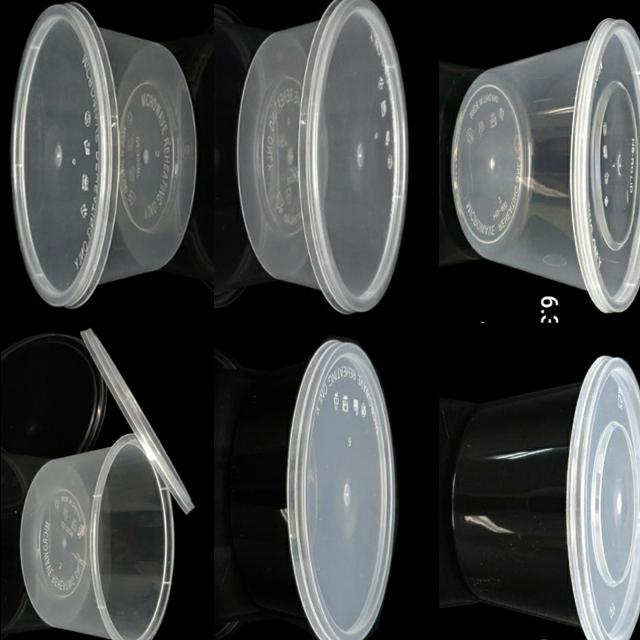plastik: (450, 18, 640, 312), (11, 4, 195, 307), (451, 356, 640, 640), (236, 0, 406, 314), (228, 340, 394, 640), (20, 434, 173, 640), (80, 328, 194, 514)
